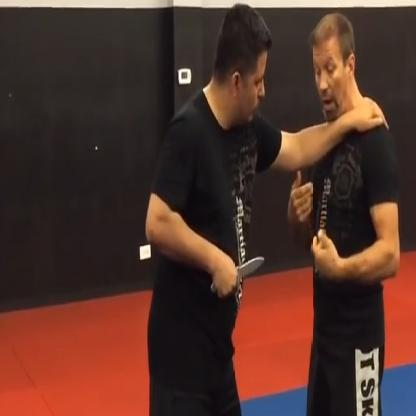knife: (208, 249, 265, 300)
